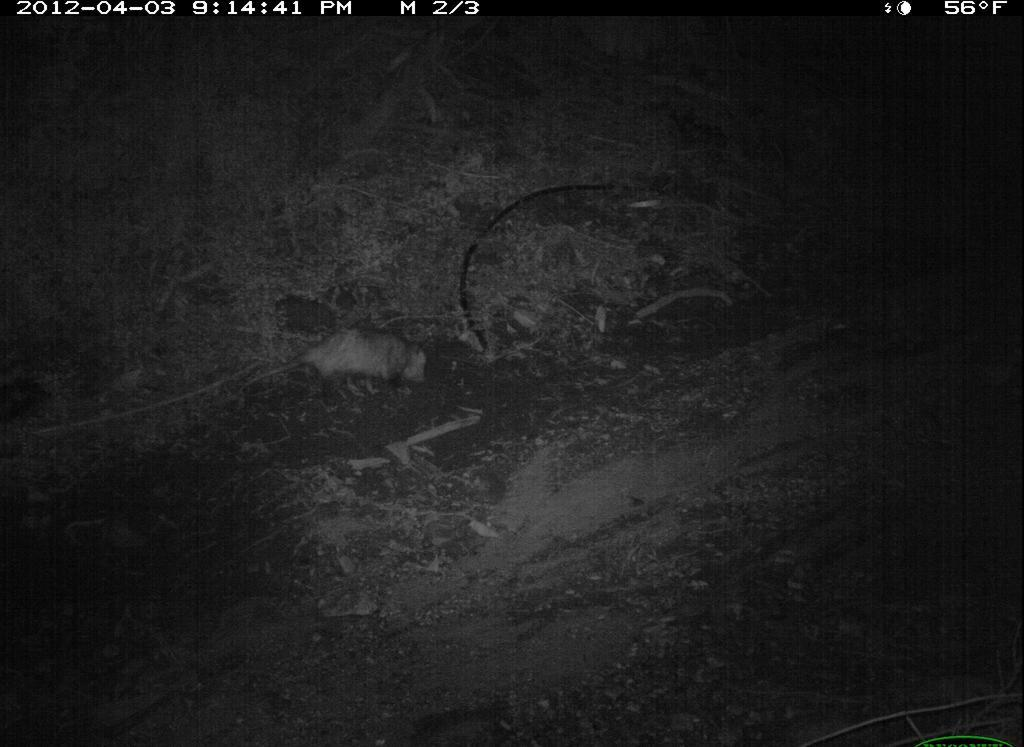opossum: (241, 317, 440, 410)
